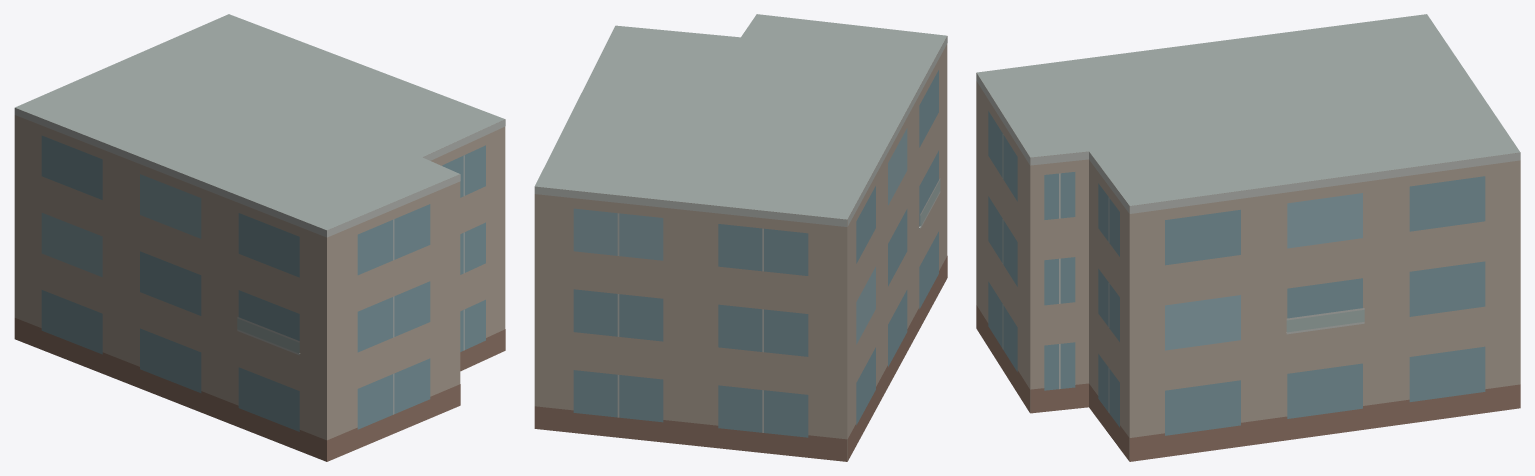
Rendered from survey-upis-32675593.glb.
3 views of the same model, side by side, from view 1: azimuth 30°, elevation 25°; view 2: azimuth 150°, elevation 25°; view 3: azimuth 270°, elevation 25° (orthographic). The views are drawn at different scales.
Parts seen in each view (by area): view 1: survey-upis-32675593.tmp; view 2: survey-upis-32675593.tmp; view 3: survey-upis-32675593.tmp.
Part boxes in pixels (left/top/right/bottom): survey-upis-32675593.tmp: left=14, top=14, right=505, bottom=461; survey-upis-32675593.tmp: left=534, top=14, right=947, bottom=461; survey-upis-32675593.tmp: left=976, top=14, right=1520, bottom=461.
Size of the model in its own units: 12.57 by 7.8 by 15.05.
